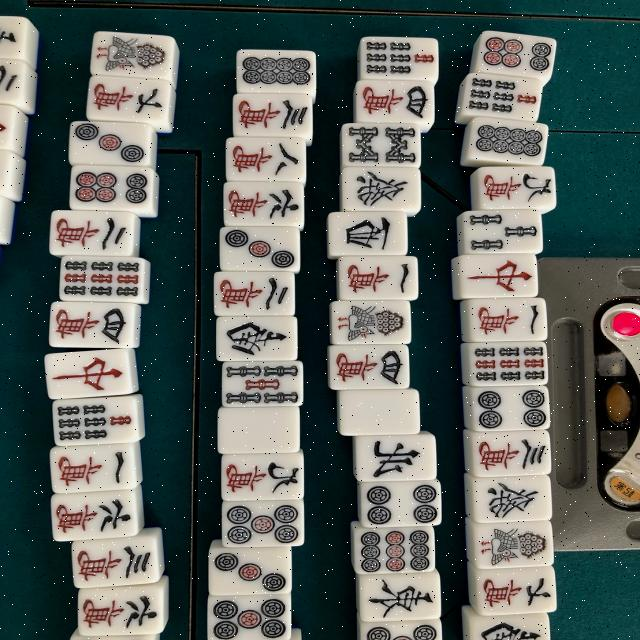bamboos_1: (324, 301, 418, 344), (88, 35, 181, 77), (470, 524, 563, 566)
bamboos_3: (458, 210, 552, 252)
bamboos_5: (214, 362, 308, 404)
bamboos_7: (52, 396, 146, 446), (354, 38, 448, 80), (462, 76, 542, 120)
bamboos_8: (462, 347, 556, 389), (336, 124, 429, 166)
bamboos_9: (62, 256, 150, 302)
characters_1: (51, 446, 136, 496), (463, 298, 556, 342), (334, 257, 426, 300)
characters_2: (196, 272, 290, 315), (47, 217, 136, 256)
characters_3: (225, 95, 318, 138), (468, 436, 561, 479), (69, 542, 155, 585)
characters_4: (353, 81, 446, 124), (323, 346, 416, 388), (47, 309, 137, 347)
characters_6: (50, 490, 137, 544), (218, 180, 312, 223), (77, 588, 166, 632)
characters_7: (83, 78, 178, 123), (472, 570, 565, 613)
characters_8: (219, 136, 312, 180)
characters_9: (471, 165, 565, 208), (216, 456, 310, 497)
circles_3: (218, 231, 312, 274), (66, 122, 156, 166), (204, 551, 297, 593)
circles_4: (462, 386, 556, 429), (356, 484, 449, 526)
circles_5: (218, 504, 311, 547), (203, 597, 297, 639)
circles_6: (69, 166, 159, 208), (474, 32, 552, 76)
circles_8: (466, 115, 549, 164), (234, 53, 326, 95)
circles_9: (351, 530, 444, 574)
east: (353, 577, 446, 620)
green: (333, 168, 427, 212), (468, 478, 561, 521)
north: (352, 438, 445, 480)
red: (453, 258, 546, 300), (41, 356, 126, 396)
south: (218, 316, 311, 359)
west: (326, 215, 420, 258)
white: (211, 408, 304, 452), (335, 392, 429, 434)
